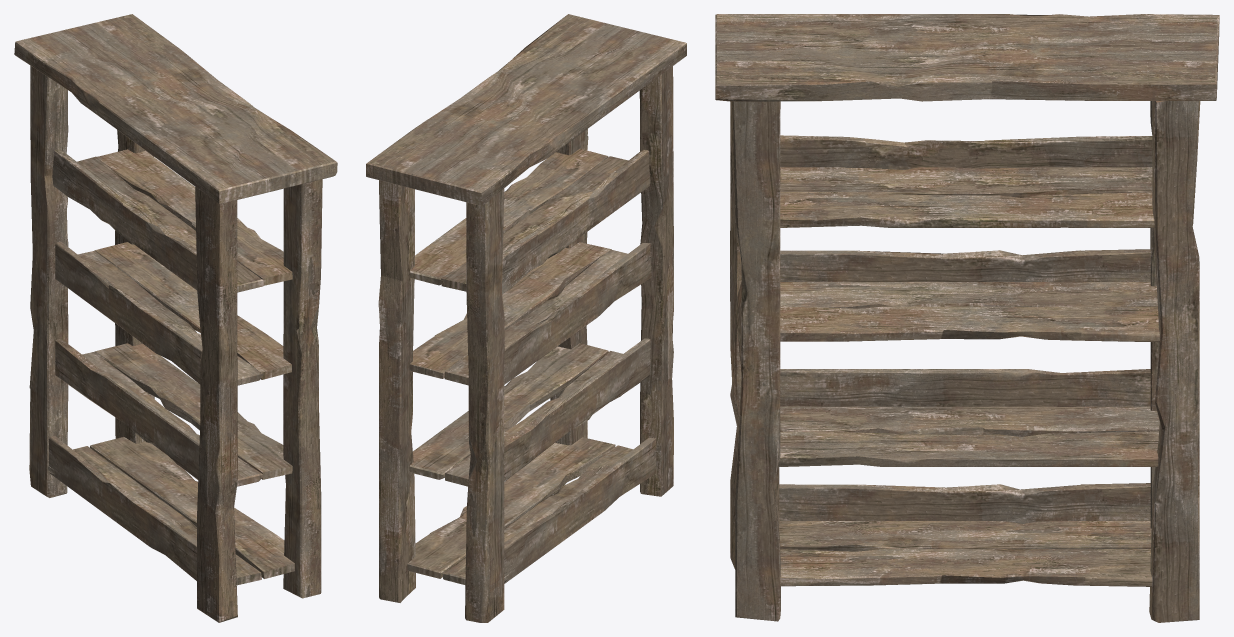
Rendered from SM_Bookshelf_A_02.fbx.
3 views of the same model, side by side, from view 1: azimuth 30°, elevation 25°; view 2: azimuth 150°, elevation 25°; view 3: azimuth 270°, elevation 25° (orthographic). The views are drawn at different scales.
Parts seen in each view (by area): view 1: SM_Bookshelf_A_02_LOD0; view 2: SM_Bookshelf_A_02_LOD0; view 3: SM_Bookshelf_A_02_LOD0.
Part boxes in pixels (x1,y1,x2,y2): SM_Bookshelf_A_02_LOD0: (14,14,337,622); SM_Bookshelf_A_02_LOD0: (366,14,686,622); SM_Bookshelf_A_02_LOD0: (715,14,1219,622).
Size of the model in its own units: 56.49 by 168 by 200.
